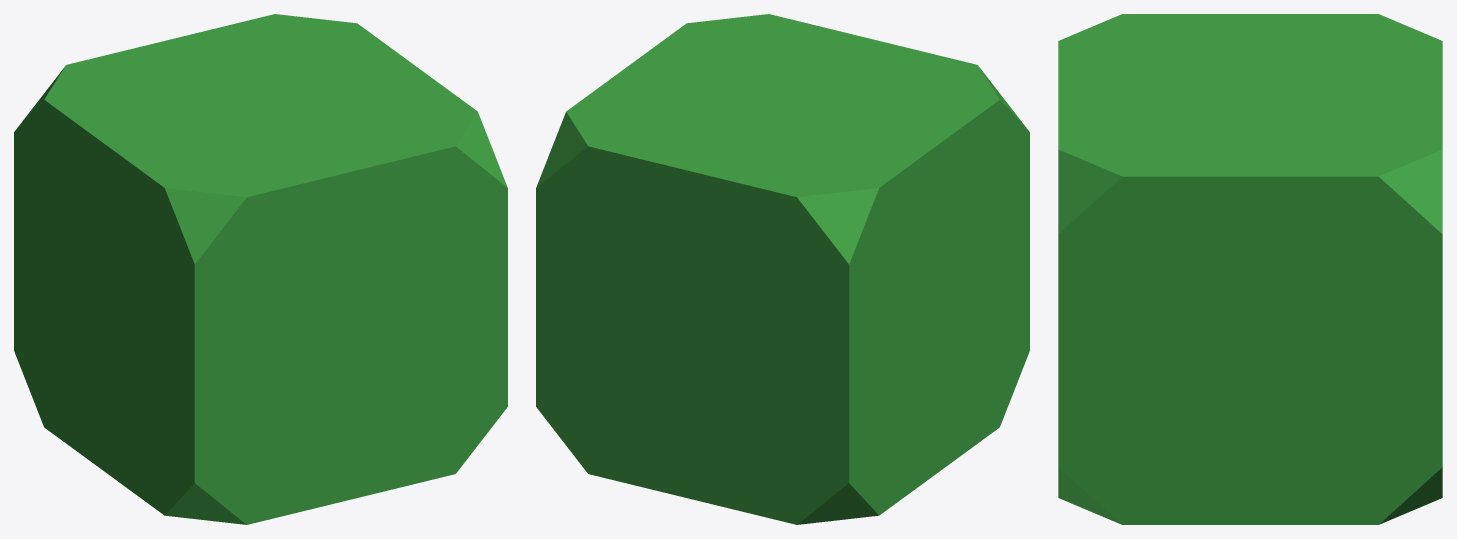
File: prop box.FBX
3 views of the same model, side by side, from view 1: azimuth 30°, elevation 25°; view 2: azimuth 150°, elevation 25°; view 3: azimuth 270°, elevation 25° (orthographic). The views are drawn at different scales.
Visible parts, largest first — view 1: Box036; view 2: Box036; view 3: Box036.
Boxes of the visible parts, bbox=[...] form: Box036: bbox=[14, 14, 507, 524]; Box036: bbox=[536, 14, 1029, 524]; Box036: bbox=[1058, 14, 1442, 524].
Size of the model in its own units: 0.9 by 0.9 by 0.9.
